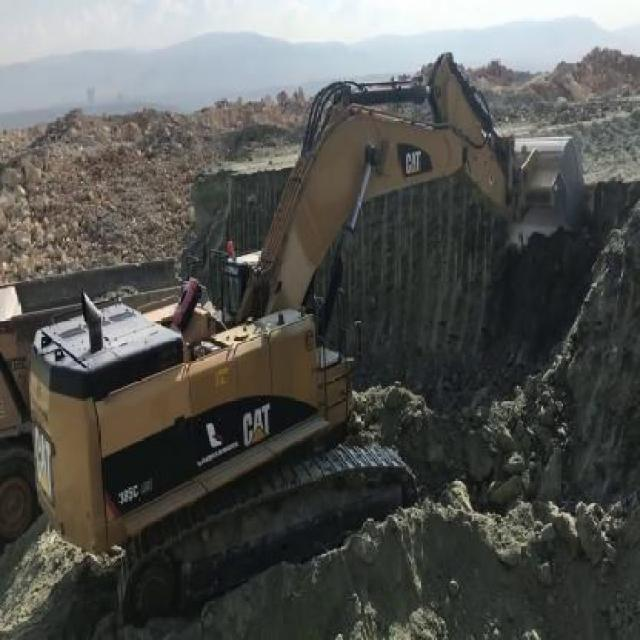Excavator: (19, 45, 586, 629)
